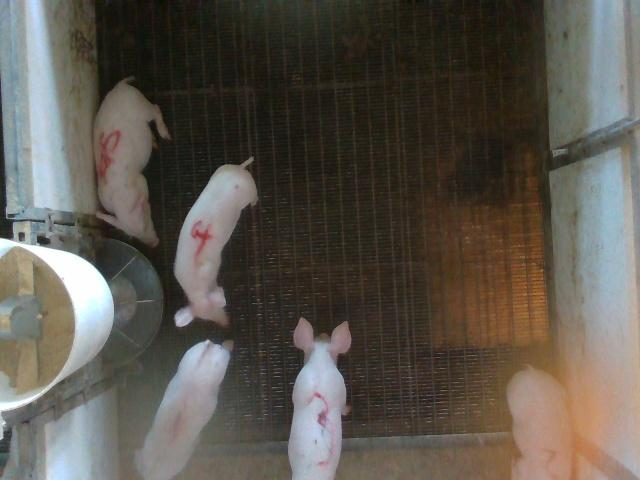pig-1: (135, 340, 231, 479)
pig-3: (289, 318, 351, 479)
pig-4: (174, 156, 258, 326)
pig-5: (95, 76, 171, 246)
